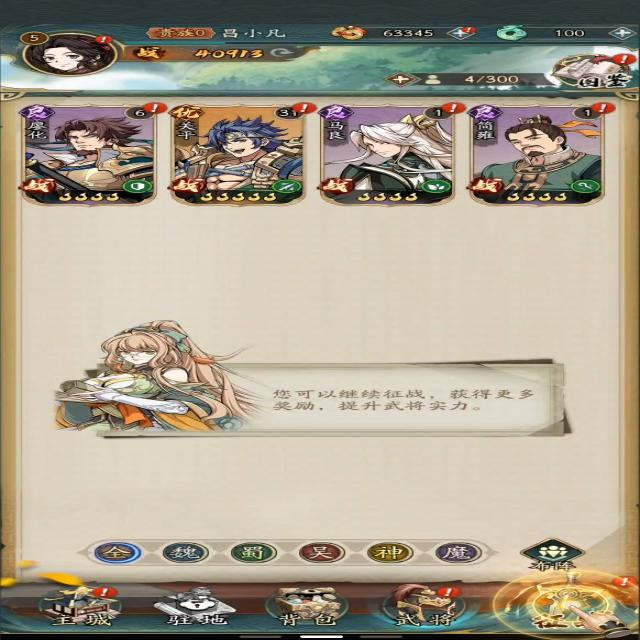hint-guide: (43, 318, 588, 444), (491, 567, 640, 640)
hint-reddot: (432, 97, 468, 117), (606, 49, 640, 67), (589, 100, 622, 117), (137, 98, 167, 116), (284, 100, 320, 115), (89, 586, 123, 600), (609, 572, 640, 587), (434, 584, 461, 599), (92, 33, 112, 44), (458, 26, 476, 36)
navigation-bag: (262, 583, 364, 629)
navigation-fight: (514, 570, 624, 631)
navigation-hero: (371, 582, 466, 631)
navigation-main: (32, 578, 128, 631)
navigation-myHeroes: (465, 95, 617, 209), (322, 98, 464, 214), (16, 100, 159, 214), (168, 97, 308, 212)
navigation-role: (16, 28, 126, 80)
navigation-station-off: (143, 583, 244, 631)
operation-camp: (354, 539, 416, 565), (222, 539, 280, 565), (89, 539, 144, 566), (292, 540, 348, 566), (428, 540, 482, 566), (155, 540, 211, 564)
operation-deployment: (517, 537, 585, 573)
operation-gallery: (550, 52, 637, 89)
